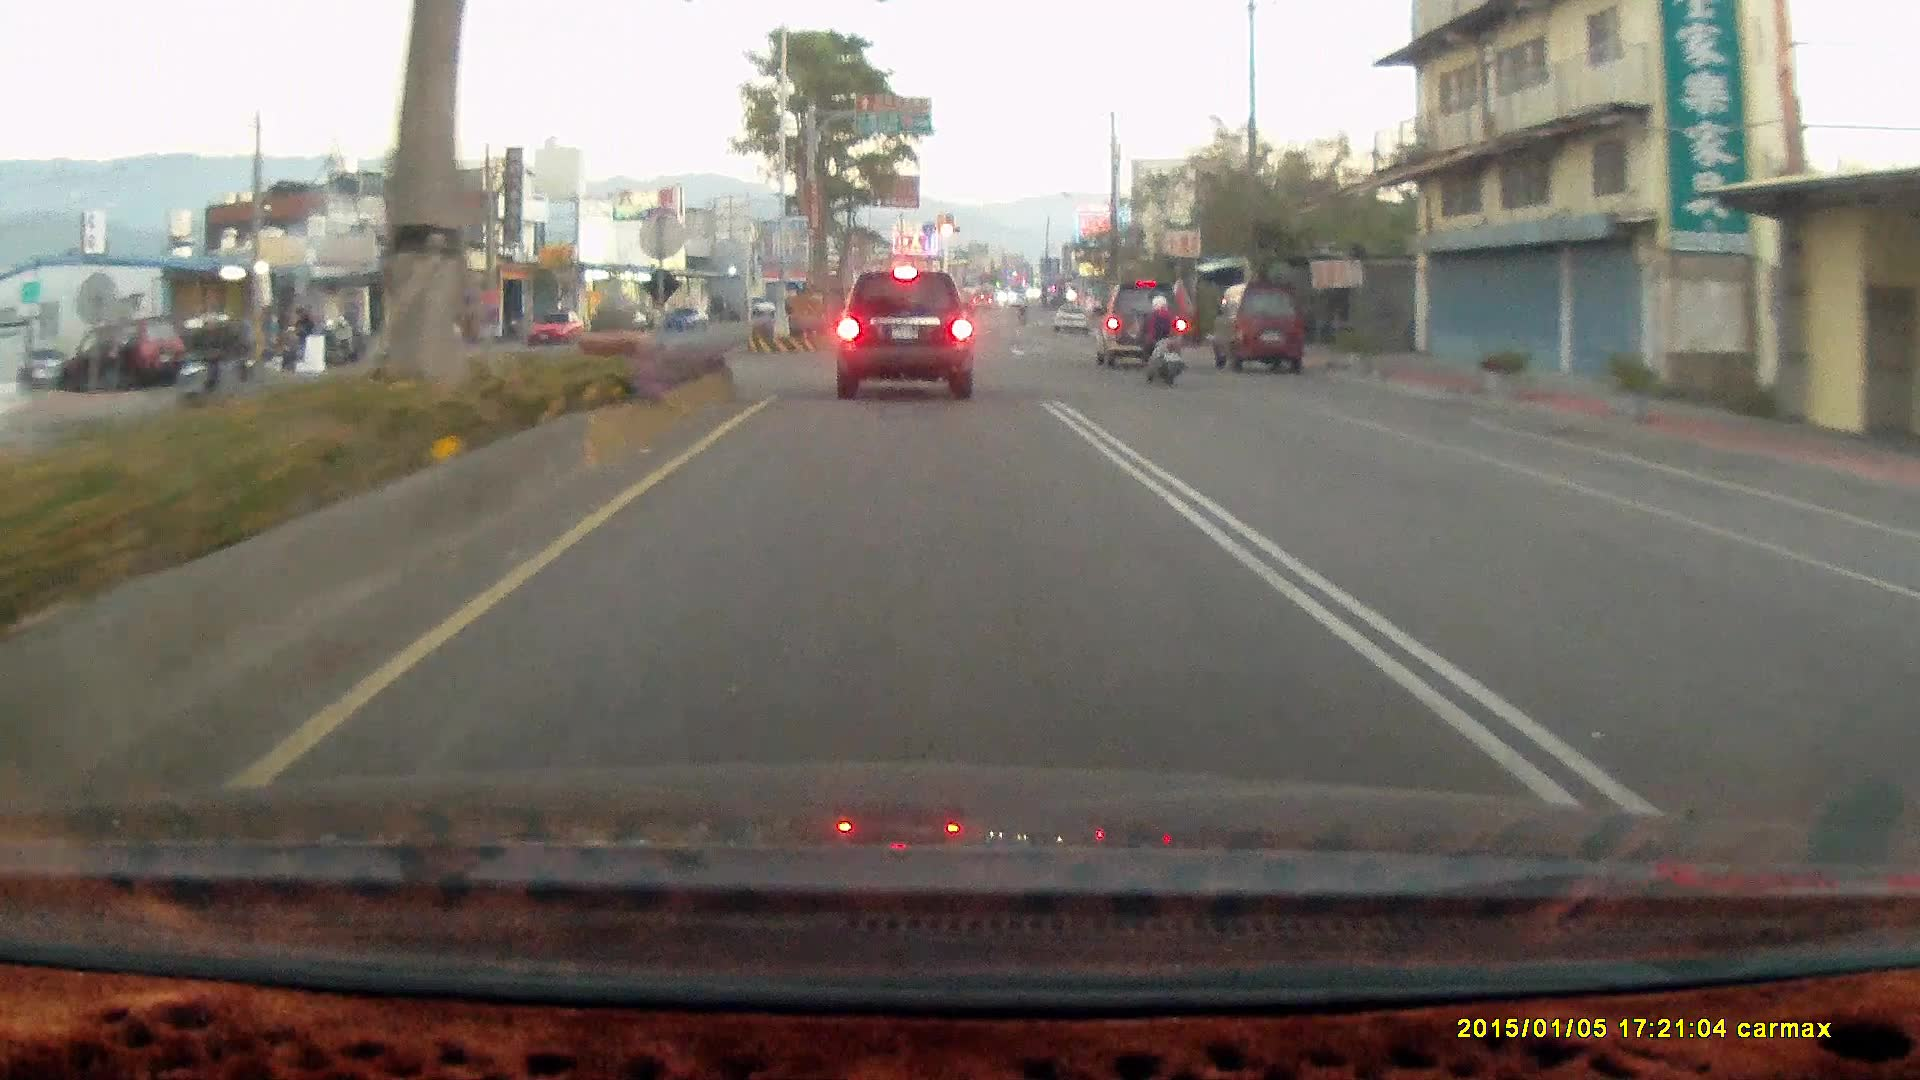rider: (1127, 285, 1196, 391), (161, 314, 222, 414), (1132, 292, 1183, 386)
vehicle: (831, 263, 986, 399), (834, 268, 974, 399), (1210, 282, 1306, 383), (1097, 281, 1196, 372), (1210, 282, 1302, 371), (1093, 280, 1184, 368), (372, 310, 464, 365)
